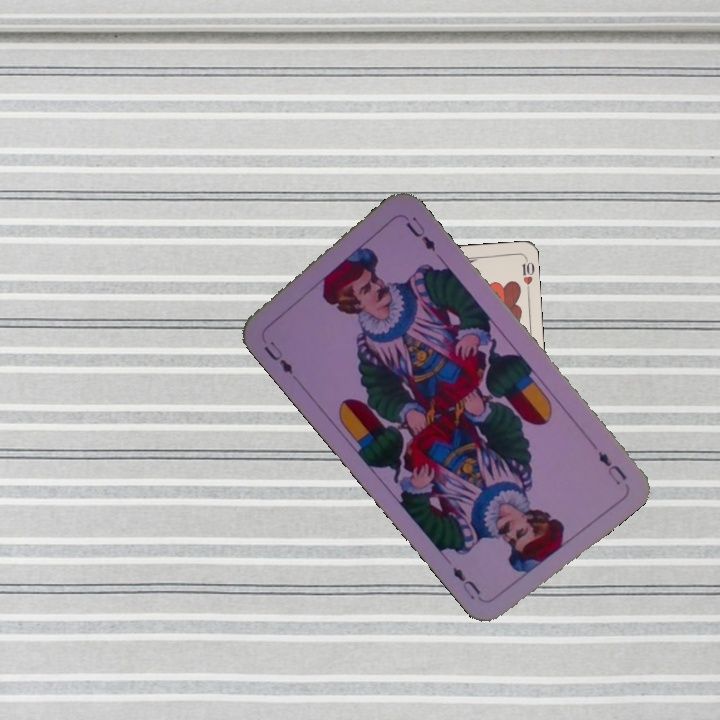EU: (259, 336, 296, 377), (593, 447, 630, 488)
